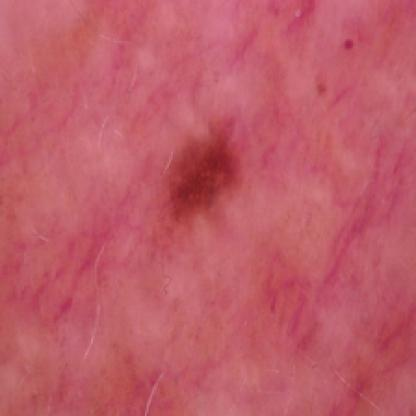benign: (162, 113, 252, 219)
